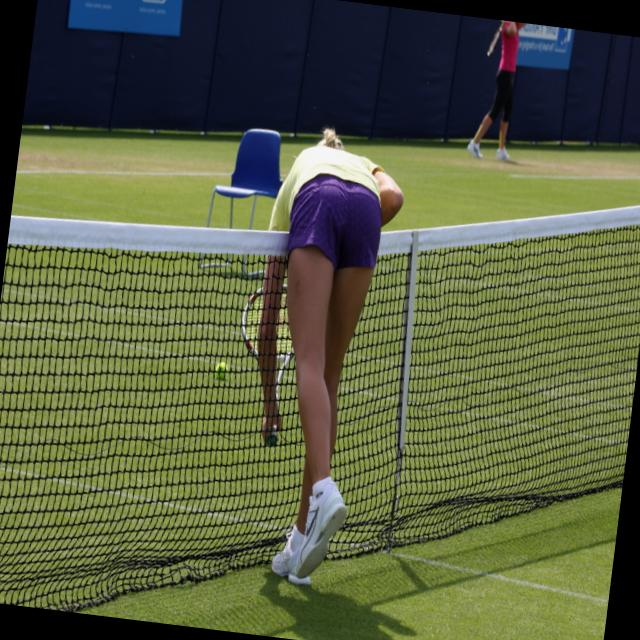Tennis Ball: (214, 360, 228, 379)
